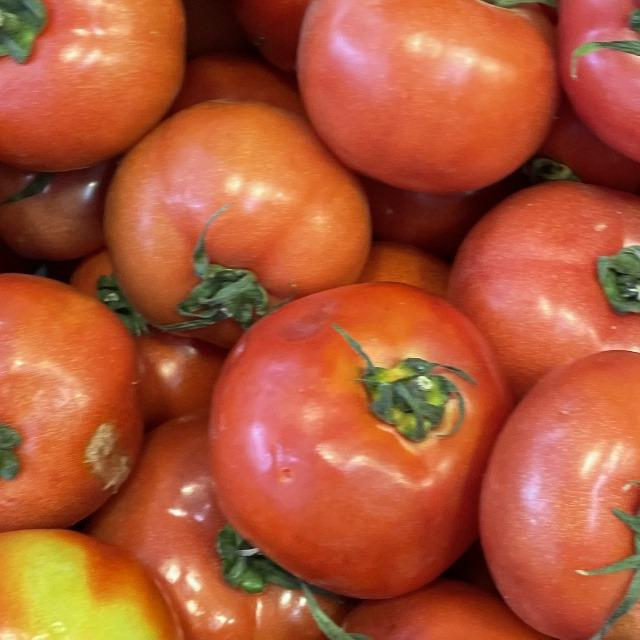tomato: (182, 258, 510, 608), (290, 0, 577, 200), (465, 312, 640, 640), (0, 237, 172, 547), (0, 0, 225, 162)
